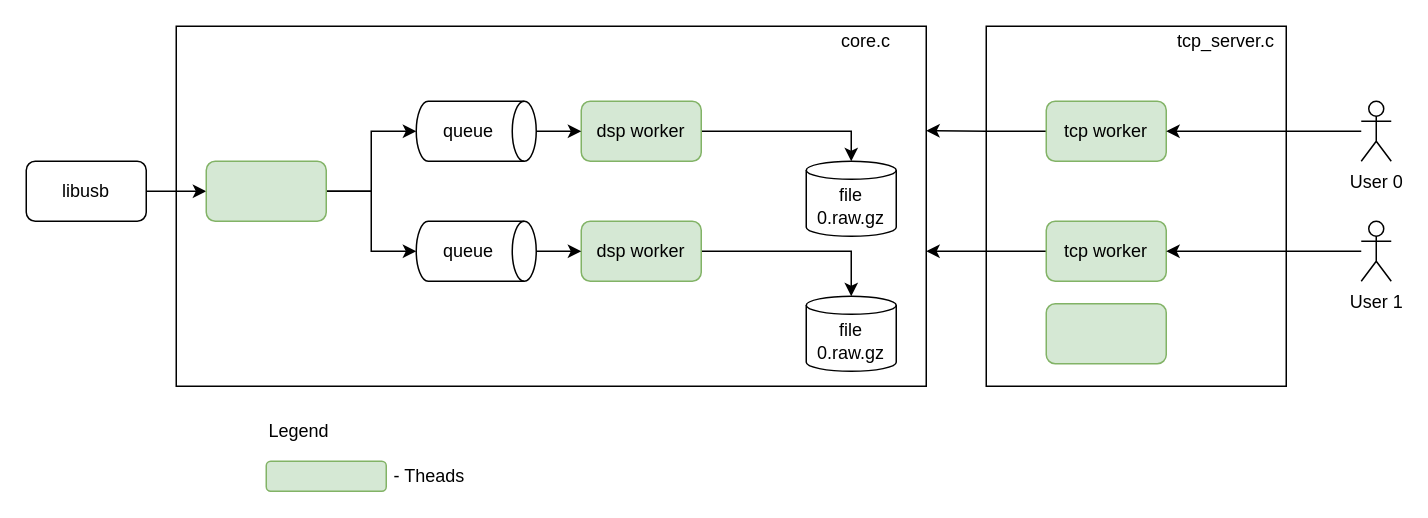
Image size: 1428x518. Some labels were removed from this diagram. The shapes that lost their labels are listed below. From the top down, each one's centre as x and y in pixels, then its label:
At point (265, 190): "rtl-sdr worker".
At point (1105, 333): "acceptor".
